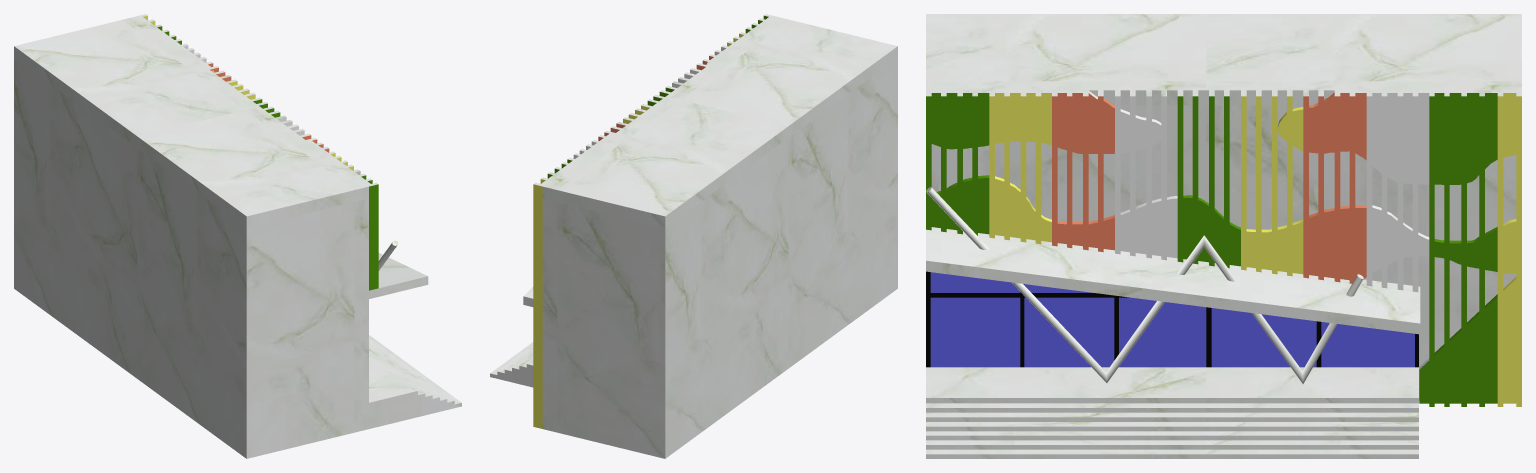
Rendered from Toamithuat.fbx.
The picture shows the model from 3 angles, left to right: view 1: azimuth 30°, elevation 25°; view 2: azimuth 150°, elevation 25°; view 3: azimuth 270°, elevation 25°; orthographic projection. The views are drawn at different scales.
Parts seen in each view (by area): view 1: T_a_m__thu_t1; view 2: T_a_m__thu_t1; view 3: T_a_m__thu_t1.
Part boxes in pixels (x1,y1,x2,y2): T_a_m__thu_t1: (14, 14, 461, 458); T_a_m__thu_t1: (490, 14, 897, 458); T_a_m__thu_t1: (926, 14, 1521, 458).
Bounding box in the file's own units: 9270 × 9983 × 17356.
